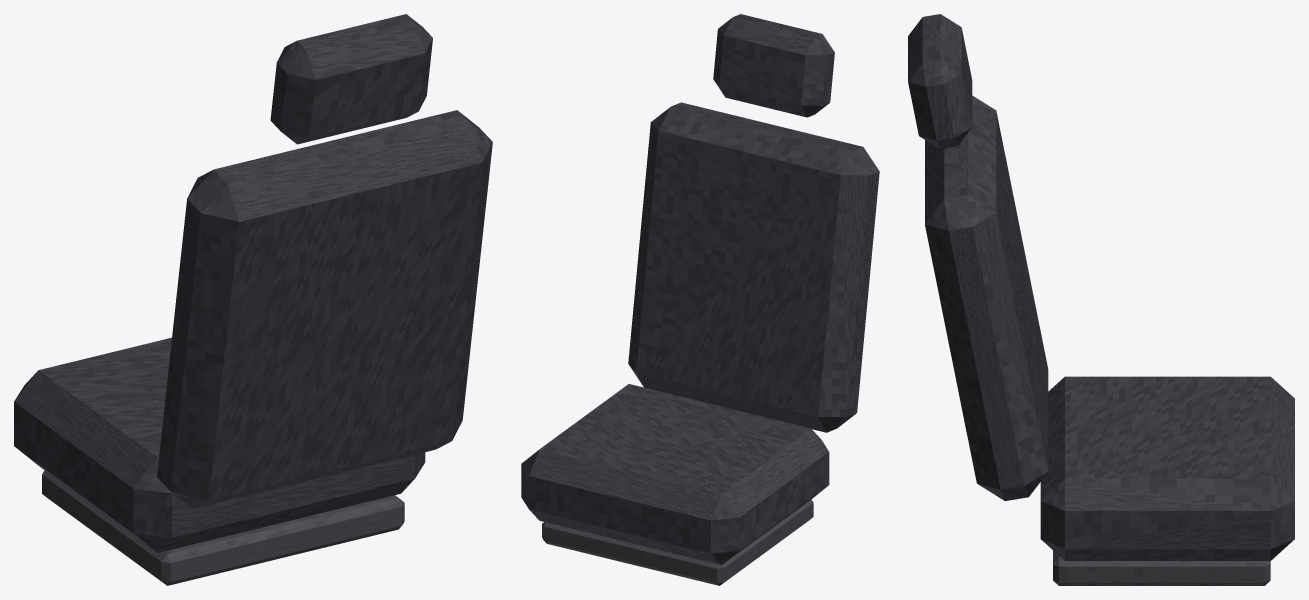
File: vp_seat.glb
3 views of the same model, side by side, from view 1: azimuth 30°, elevation 25°; view 2: azimuth 150°, elevation 25°; view 3: azimuth 270°, elevation 25° (orthographic). The views are drawn at different scales.
Visible parts, largest first — view 1: block_backrest, block_cushion, block_headrest, block_rails; view 2: block_backrest, block_cushion, block_headrest, block_rails; view 3: block_cushion, block_backrest, block_headrest, block_rails.
Boxes of the visible parts, x1,y1,x2,y2 form: block_backrest: (157, 110, 492, 508); block_cushion: (14, 337, 425, 552); block_headrest: (270, 14, 432, 144); block_rails: (42, 470, 404, 585); block_backrest: (628, 102, 879, 432); block_cushion: (521, 384, 829, 564); block_headrest: (713, 14, 834, 117); block_rails: (542, 499, 813, 585); block_cushion: (1040, 376, 1294, 560); block_backrest: (925, 95, 1048, 500); block_headrest: (908, 14, 972, 149); block_rails: (1053, 550, 1270, 585).
Size of the model in its own units: 0.48 by 0.9124 by 0.6392.
2 materials, 2 textured.
